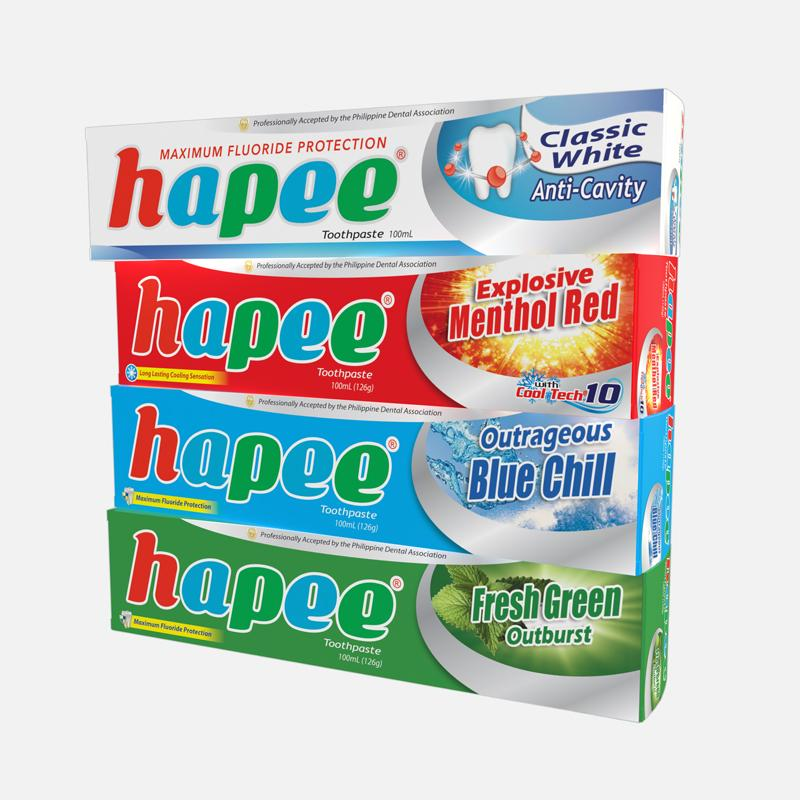toothpaste: (101, 511, 667, 722), (98, 380, 665, 582), (109, 252, 674, 418), (92, 117, 694, 267)
